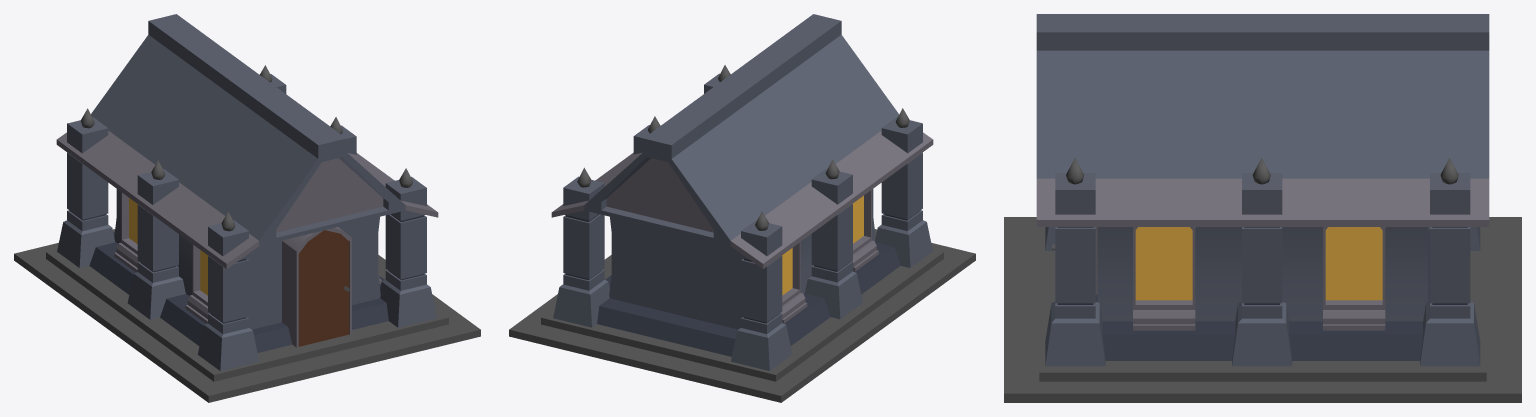
Rendered from Mesh_graveayrd_building.fbx.
The picture shows the model from 3 angles, left to right: view 1: azimuth 30°, elevation 25°; view 2: azimuth 150°, elevation 25°; view 3: azimuth 270°, elevation 25°; orthographic projection. The views are drawn at different scales.
Parts seen in each view (by area): view 1: graveayrd_building; view 2: graveayrd_building; view 3: graveayrd_building.
Boxes of the visible parts, x1=… form: graveayrd_building: x1=14, y1=14, x2=480, y2=402; graveayrd_building: x1=509, y1=14, x2=975, y2=402; graveayrd_building: x1=1004, y1=14, x2=1521, y2=402.
Size of the model in its own units: 663 by 509 by 820.
Materials: 1 (1 with a texture image).
